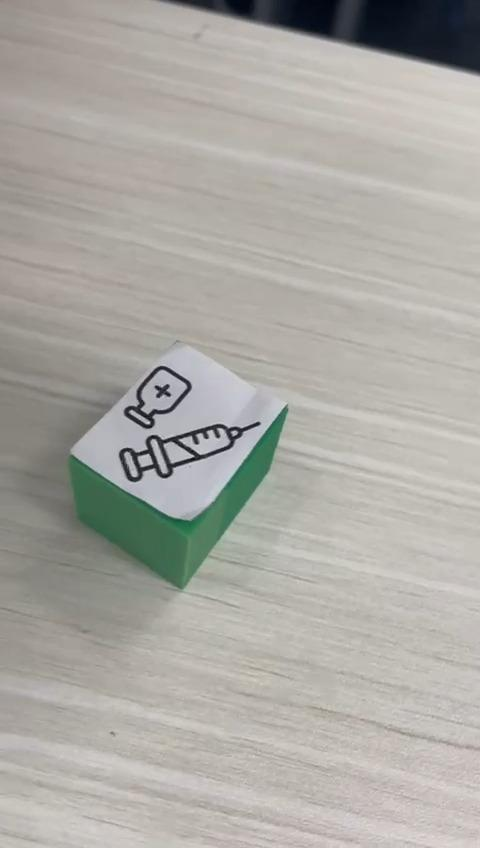antiseptic cream: (67, 338, 289, 589)
